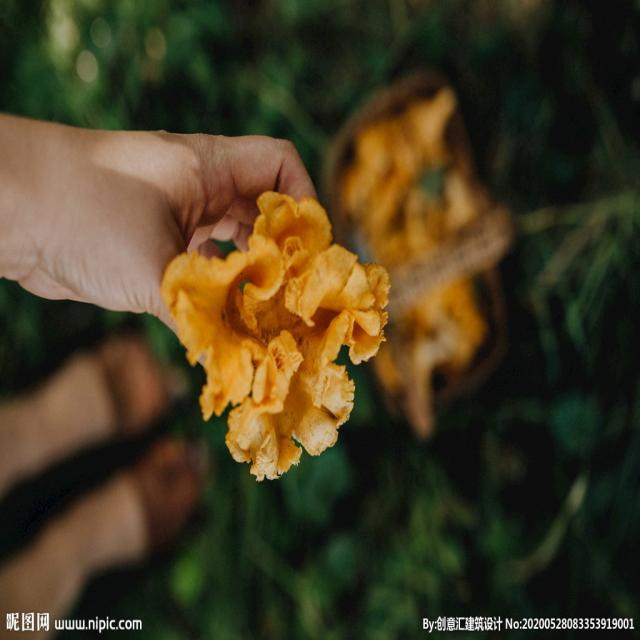Cantharellus cibarius: (168, 190, 389, 481)
